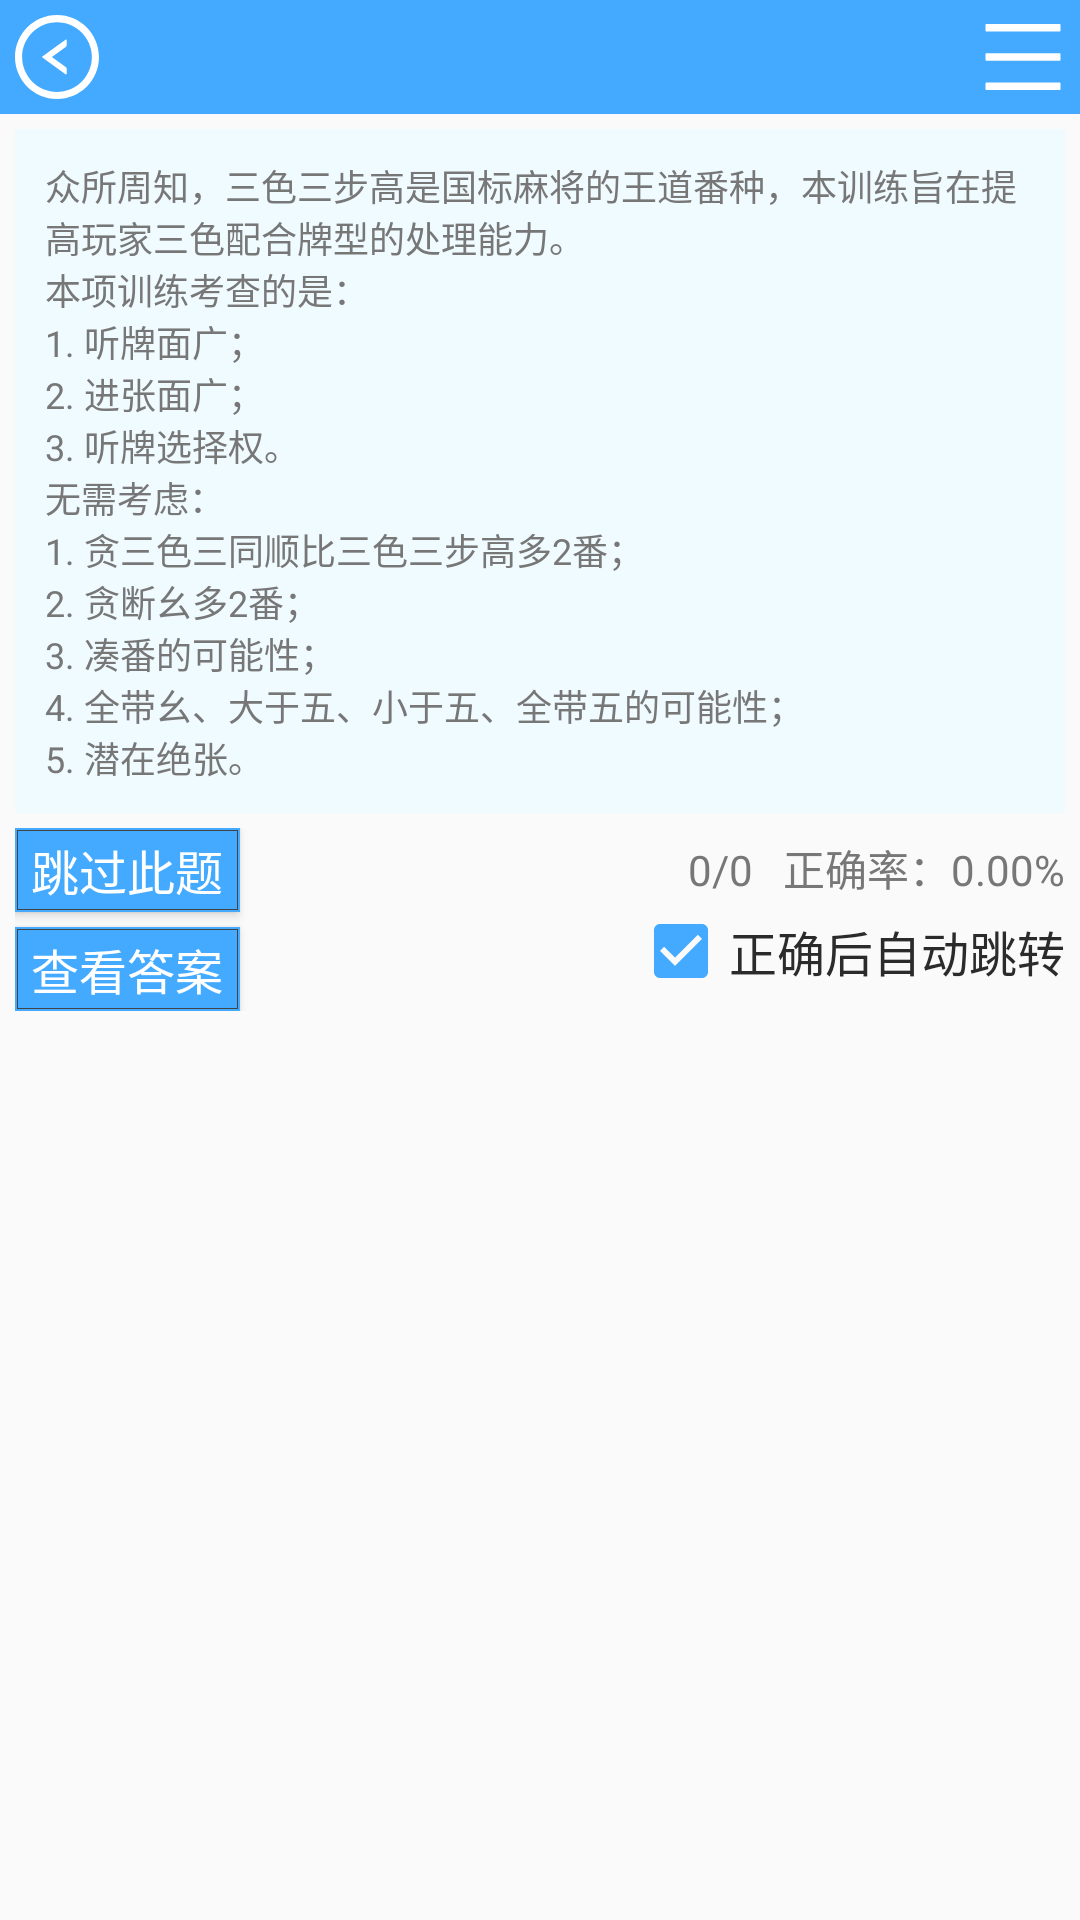

Named icons in this screenshot (1080x1920) and their bounding boxes, (x1,y1,x2,y2):
arrow left: (15,15,99,99)
menu: (985,24,1061,90)
